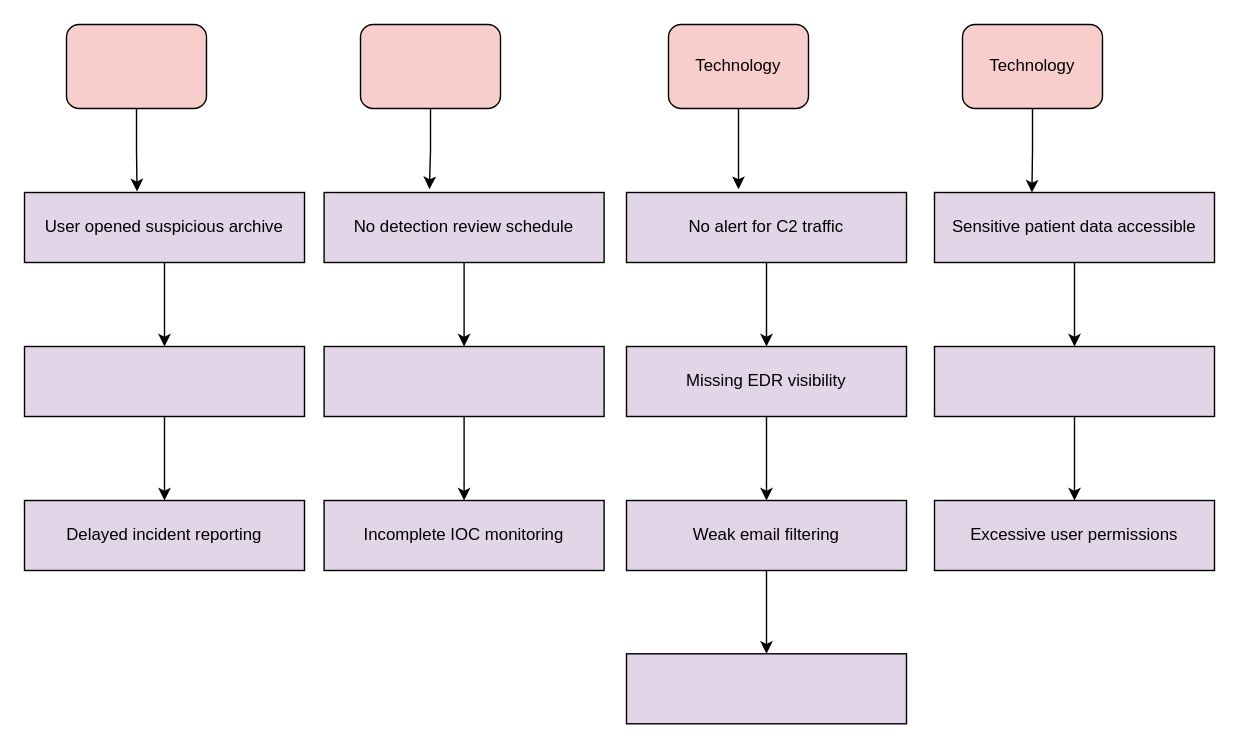
Some shapes in this 1239 by 749 pixel diagram are drawn without their labels. Each missing label, with the centre of its shape:
"Flat network architecture" belongs at point 1073,380.
"Insufficient logging coverage" belongs at point 765,688.
"Limited phishing awareness" belongs at point 163,380.
"People" belongs at point 135,65.
"Process" belongs at point 429,65.
"Weak incident response playbook" belongs at point 463,380.
